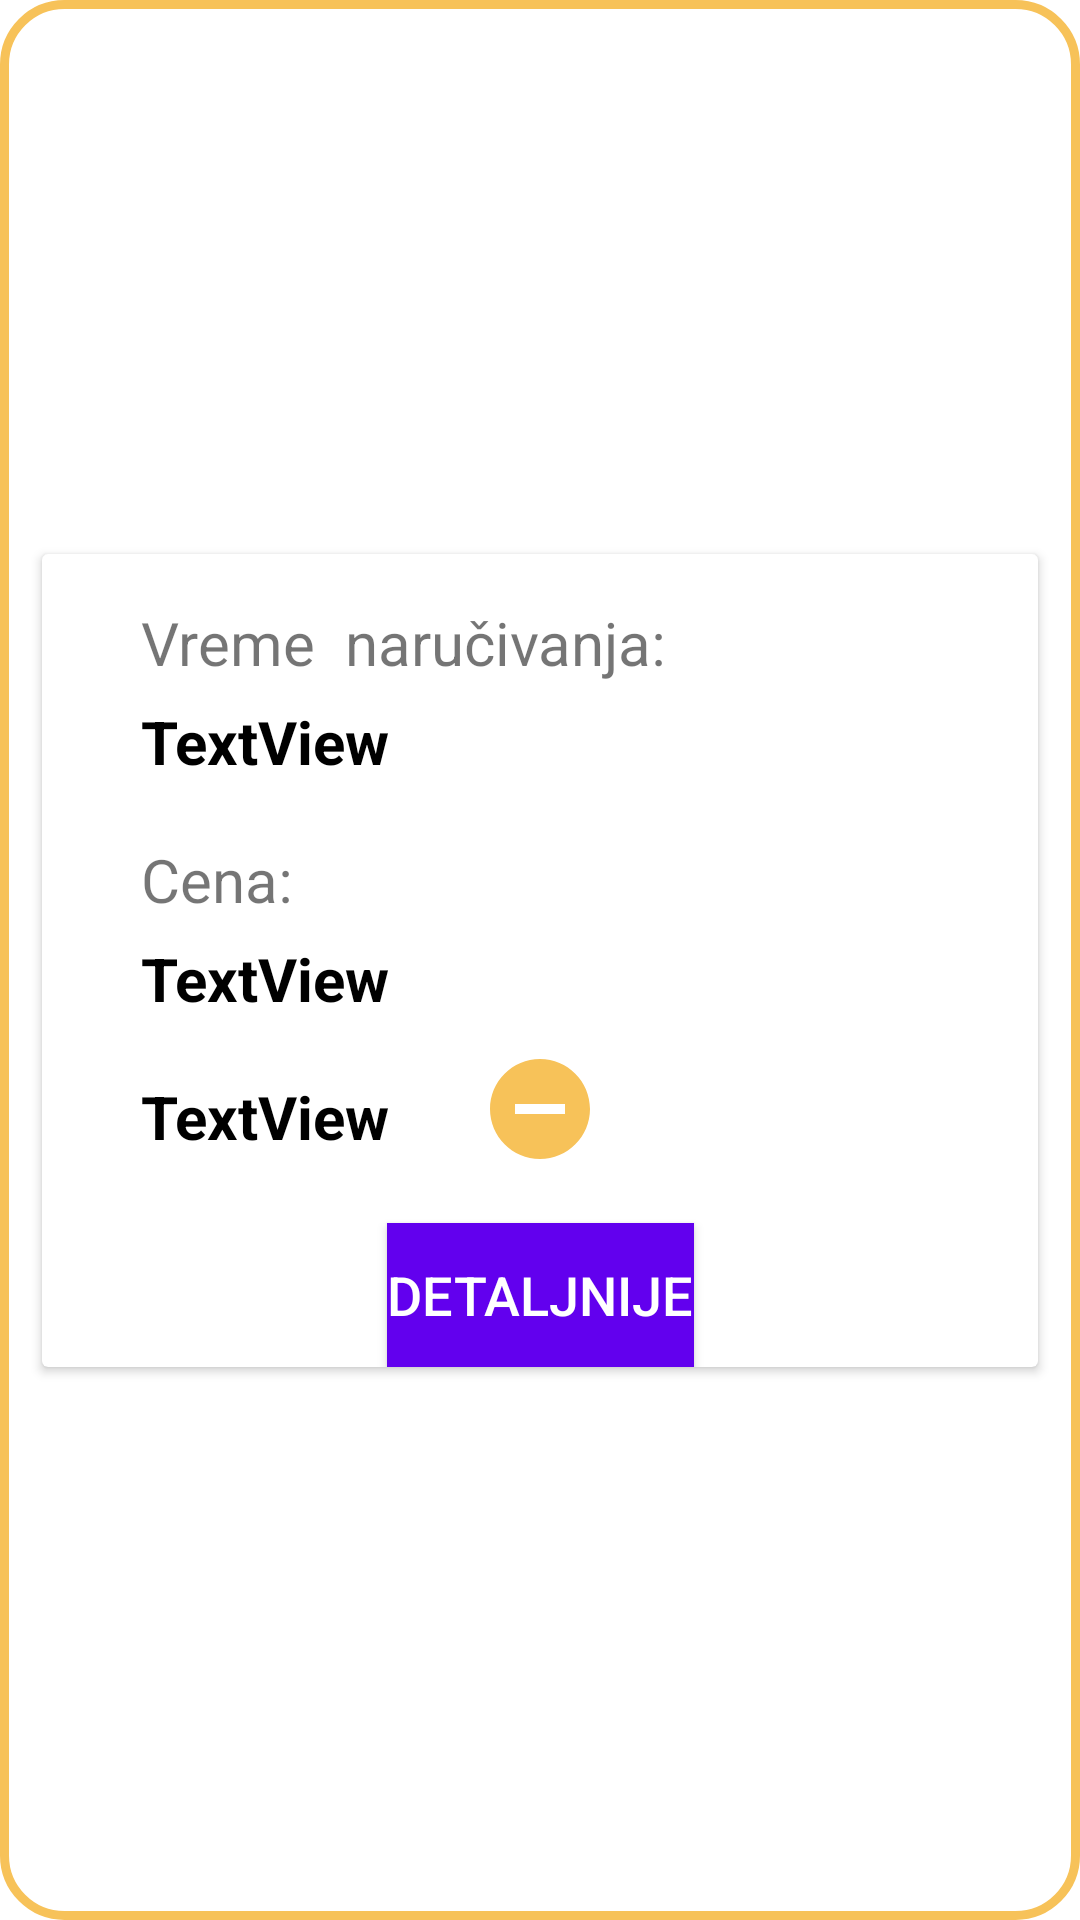

Screen size 1080w x 1920h. Icon name, then its center in pixels as (x=x, y=y):
delete item: (x=540, y=1109)
